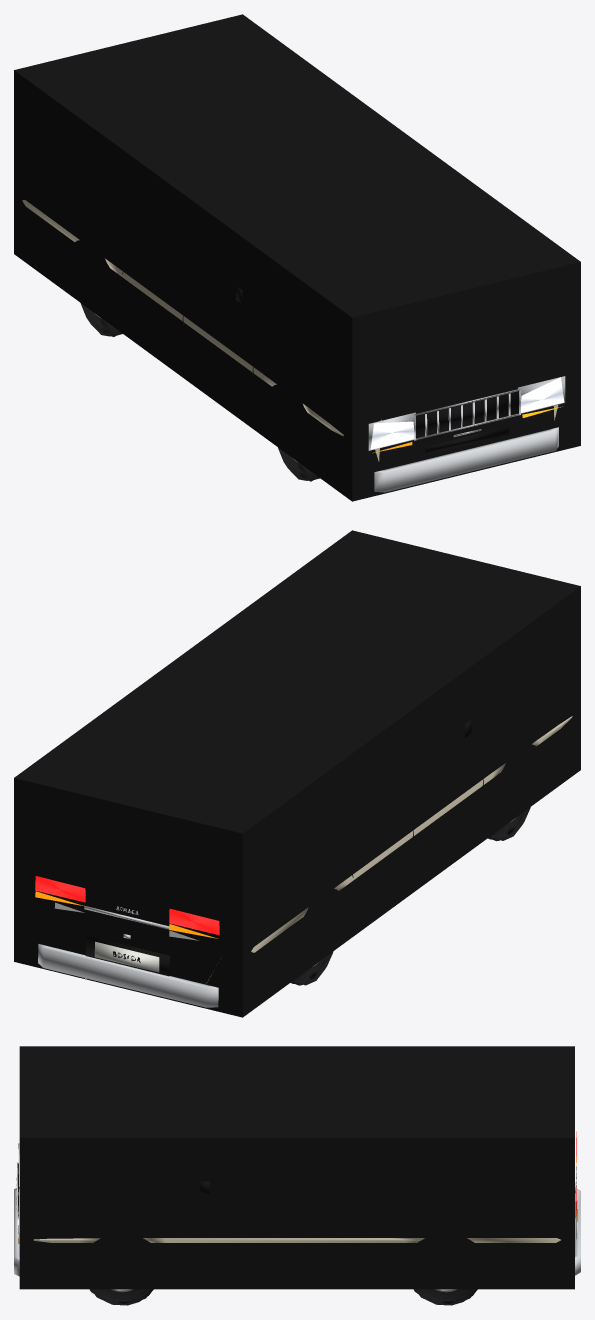
File: atmaca_stock_lod2.glb
The picture shows the model from 3 angles, top to bottom: view 1: azimuth 30°, elevation 25°; view 2: azimuth 150°, elevation 25°; view 3: azimuth 270°, elevation 25°; orthographic projection. The views are drawn at different scales.
Visible parts, largest first — view 1: col_body, trim, lights_front, body; view 2: col_body, trim, lights_rear, body, plate_rear; view 3: col_body, body, trim, wheel_RL, wheel_FL.
Boxes of the visible parts, x1,y1,x2,y2 form: col_body: (14,14,580,501); trim: (122,269,565,492); lights_front: (370,377,564,453); body: (22,200,558,461); col_body: (14,530,580,1017); trim: (38,719,483,1007); lights_rear: (35,876,219,940); body: (206,716,572,984); plate_rear: (94,941,159,972); col_body: (19,1046,574,1289); body: (33,1238,560,1242); trim: (14,1143,580,1276); wheel_RL: (413,1289,477,1305); wheel_FL: (89,1289,153,1305).
Bounding box in the file's own units: 1.66 × 1.43 × 4.29.
